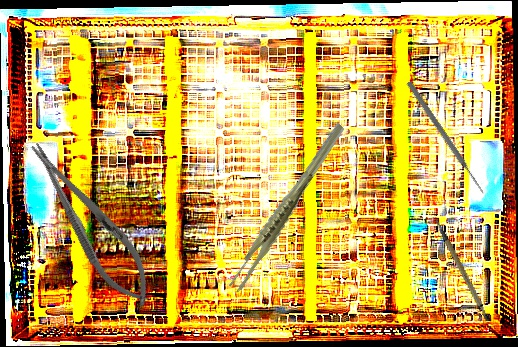Needle Holder: (16, 130, 166, 317)
Pusher: (405, 80, 487, 196)
Scalpel Handle: (434, 211, 492, 327)
Tissue Forceps: (202, 121, 373, 295)
